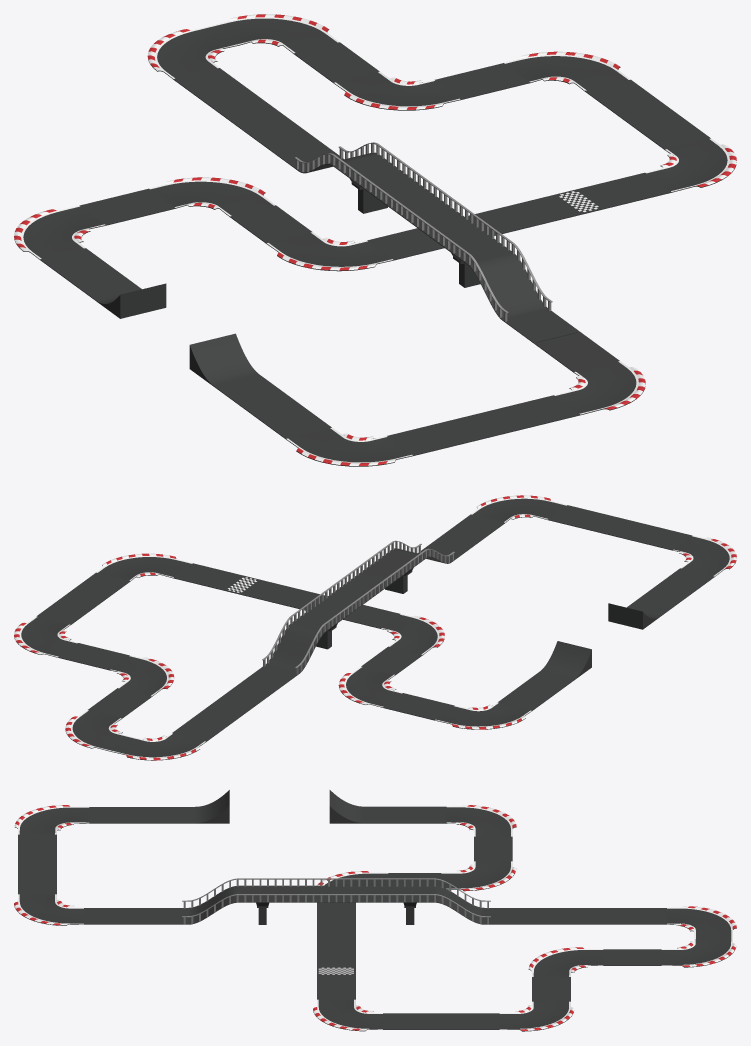
The model's file is Track.fbx.
3 views of the same model, one above another, from view 1: azimuth 30°, elevation 25°; view 2: azimuth 150°, elevation 25°; view 3: azimuth 270°, elevation 25° (orthographic). The views are drawn at different scales.
Visible parts, largest first — view 1: Cube.006; view 2: Cube.006; view 3: Cube.006.
Part boxes in pixels (<box>): Cube.006: <box>14,14,736,466</box>; Cube.006: <box>14,495,736,760</box>; Cube.006: <box>14,790,736,1031</box>.
Bounding box in the file's own units: 8191 × 575 × 11064.
1 material, 1 textured.
